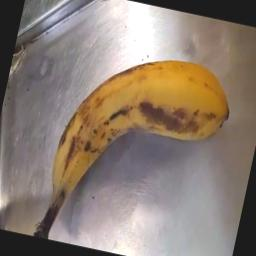Banana Overripe: (23, 22, 256, 256)
